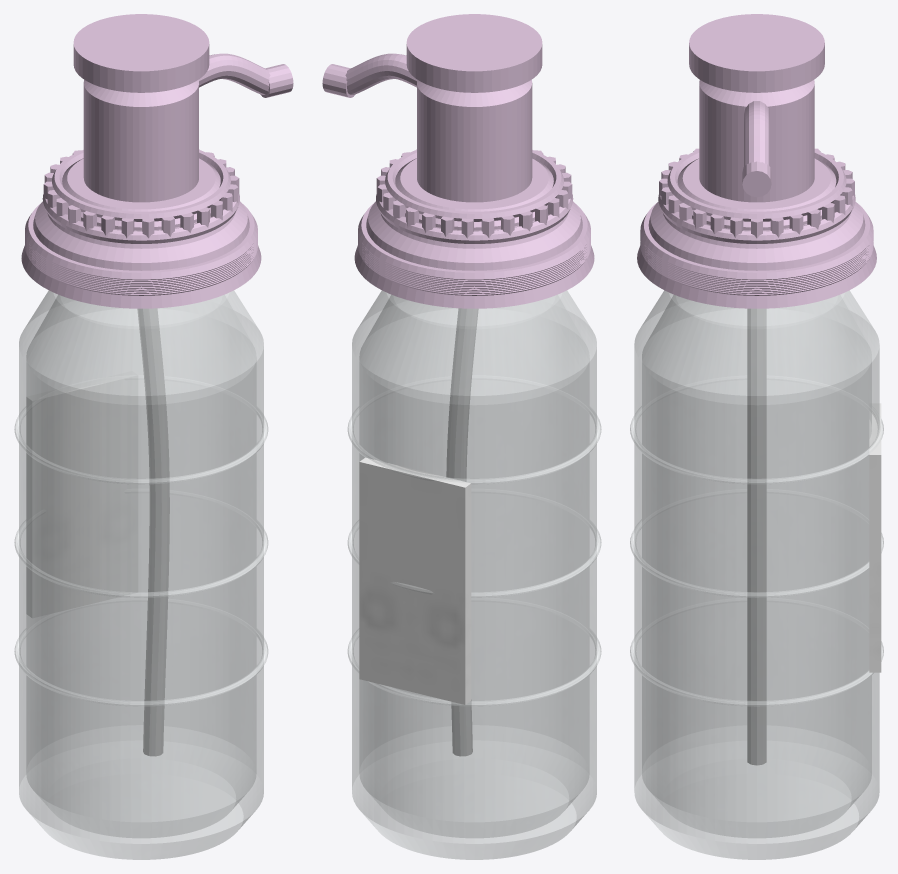
File: Container_Dispenser__0041.glb
3 renders of one model, left to right at view 1: azimuth 30°, elevation 25°; view 2: azimuth 150°, elevation 25°; view 3: azimuth 270°, elevation 25°, orthographic.
Parts seen in each view (by area): view 1: bottle::bottle_shell, collar::collar_shell, bottle::front_label, pump_head::pump_head_shell, dip_tube::dip_tube, spout::spout_shell; view 2: bottle::bottle_shell, collar::collar_shell, bottle::front_label, pump_head::pump_head_shell, dip_tube::dip_tube, spout::spout_shell; view 3: bottle::bottle_shell, collar::collar_shell, pump_head::pump_head_shell, dip_tube::dip_tube, bottle::front_label, spout::spout_shell.
Boxes of the visible parts, x1,y1,x2,y2 form: bottle::bottle_shell: (14, 290, 268, 859); collar::collar_shell: (21, 149, 261, 308); bottle::front_label: (27, 371, 137, 617); pump_head::pump_head_shell: (73, 14, 209, 202); dip_tube::dip_tube: (137, 308, 169, 756); spout::spout_shell: (198, 53, 293, 97); bottle::bottle_shell: (347, 290, 601, 859); collar::collar_shell: (354, 149, 594, 308); bottle::front_label: (359, 457, 471, 704); pump_head::pump_head_shell: (406, 14, 542, 202); dip_tube::dip_tube: (446, 308, 478, 756); spout::spout_shell: (322, 53, 417, 97); bottle::bottle_shell: (630, 290, 883, 859); collar::collar_shell: (637, 148, 876, 308); pump_head::pump_head_shell: (689, 14, 824, 202); dip_tube::dip_tube: (747, 308, 766, 765); bottle::front_label: (869, 403, 881, 672); spout::spout_shell: (742, 101, 771, 197).
Bounding box in the file's own units: 0.0866 × 0.2516 × 0.0748.
Materials: 4 (2 with a texture image).
